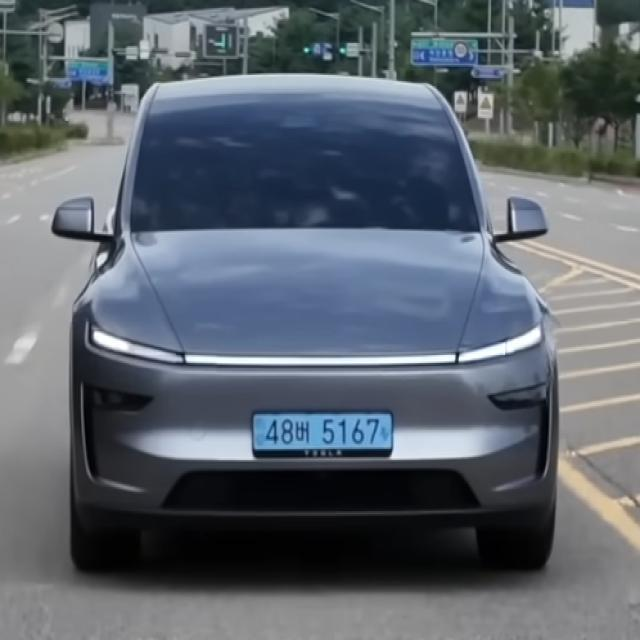car: (236, 400, 415, 474)
carev: (379, 406, 400, 457), (249, 409, 266, 454)
